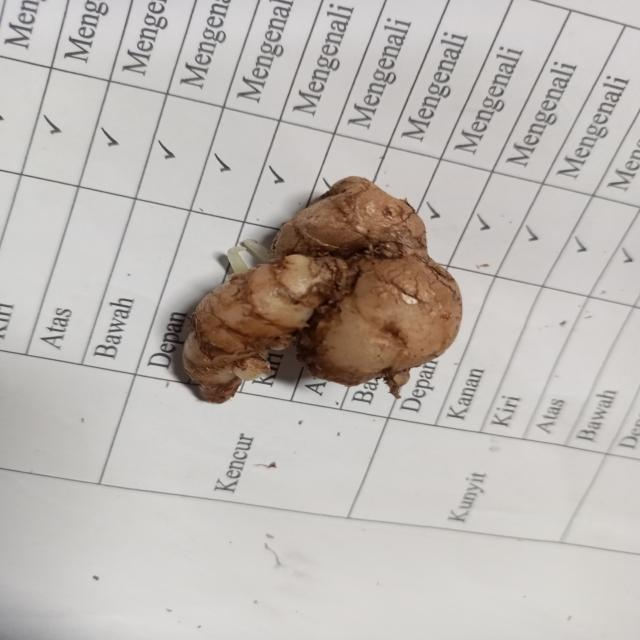ginger: (192, 183, 450, 392)
